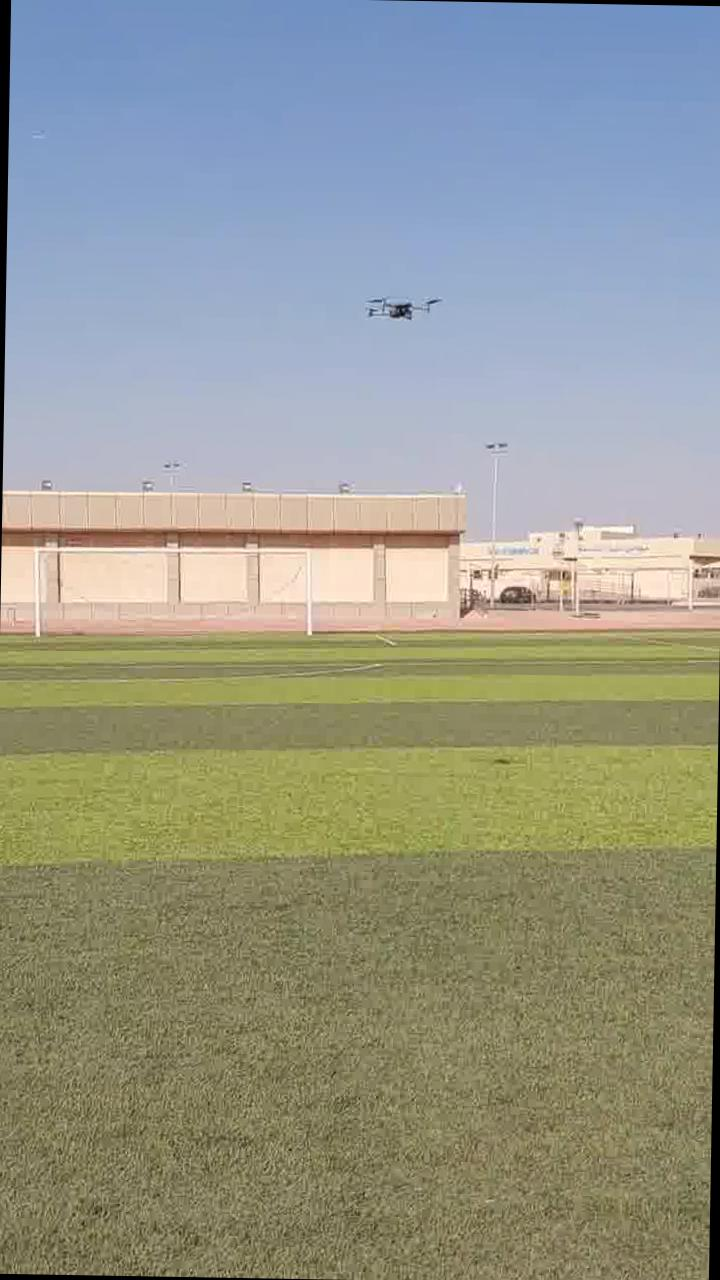drone: (354, 278, 448, 334)
